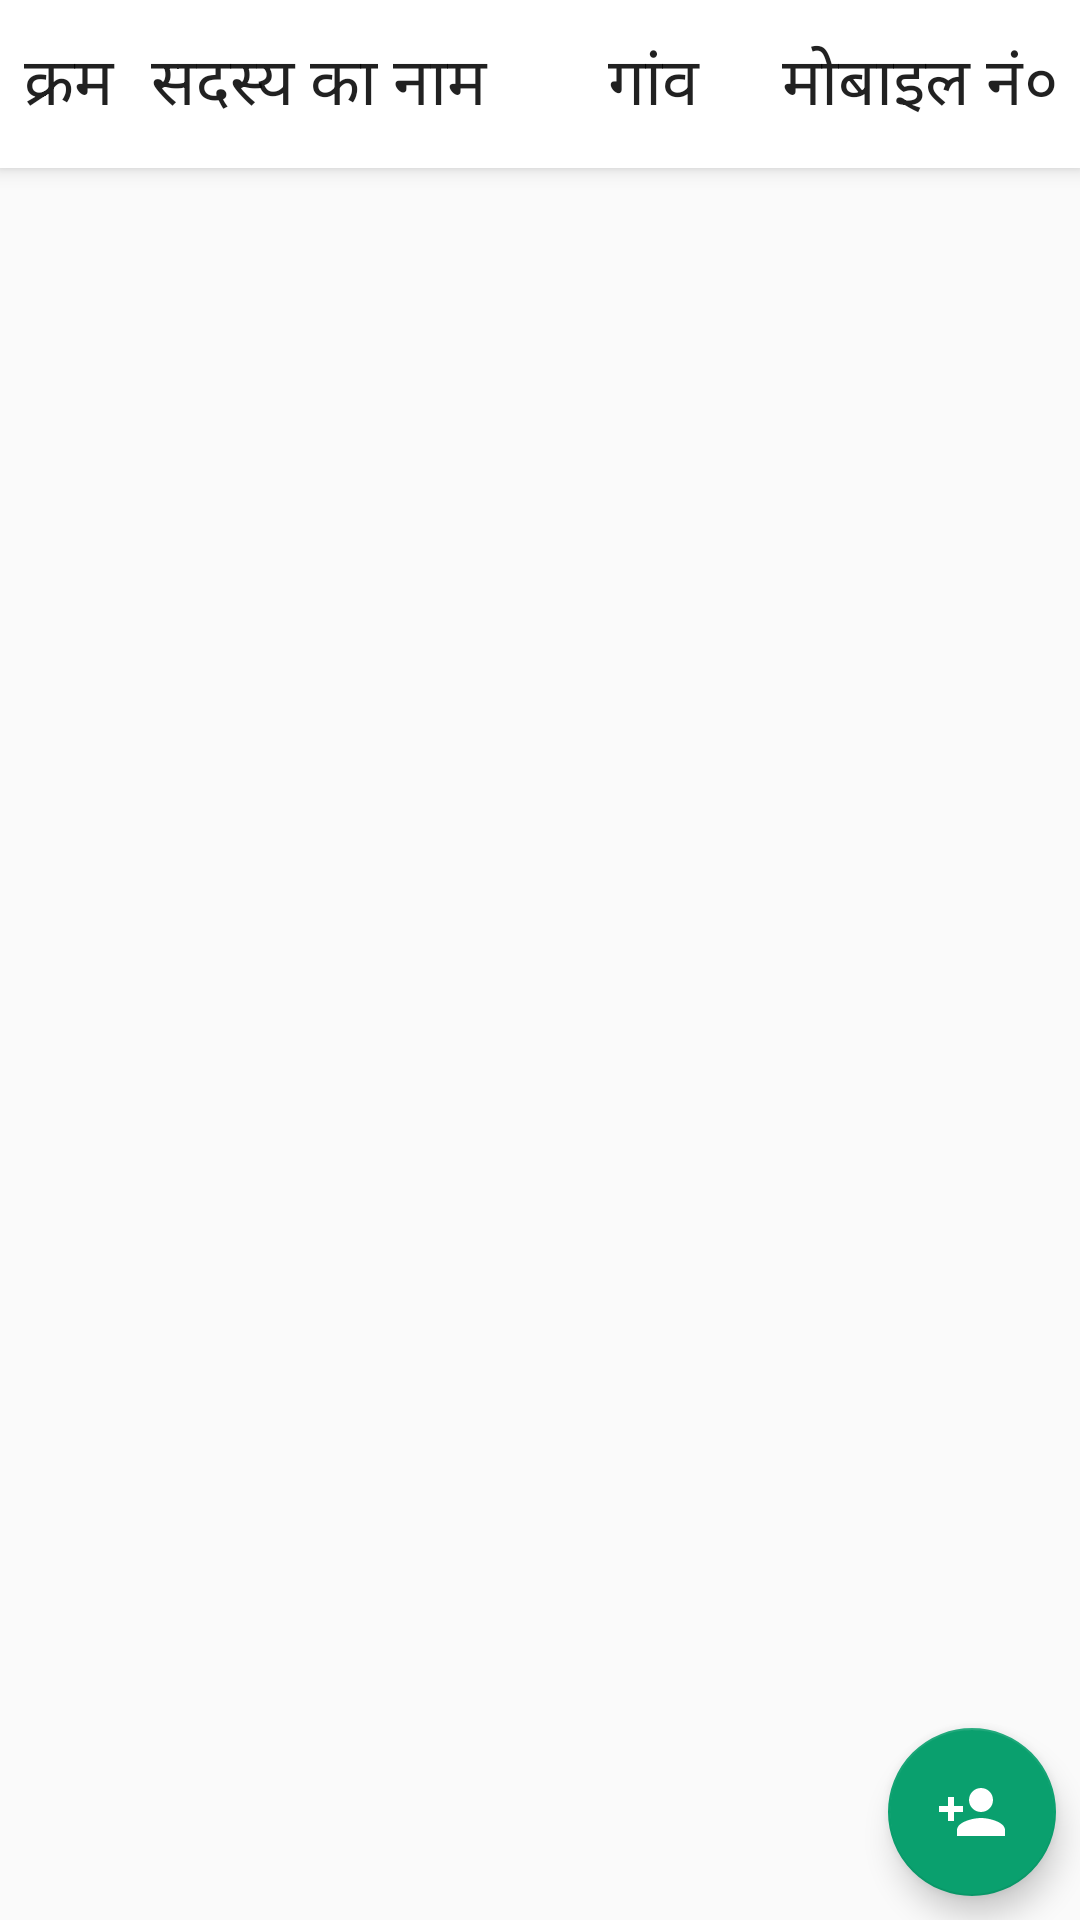

Named icons in this screenshot (1080x1920) and their centers, point (x, y):
person add: point (972, 1812)
